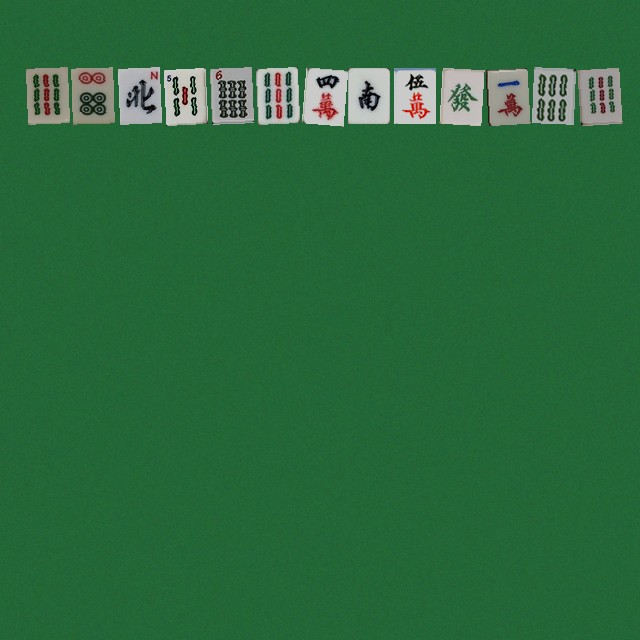tile: (25, 67, 67, 123), (71, 67, 113, 123), (117, 67, 159, 123), (163, 67, 205, 123), (209, 67, 251, 123), (255, 67, 297, 123), (301, 67, 343, 123), (347, 67, 389, 123), (393, 67, 435, 123), (439, 67, 481, 123), (485, 67, 527, 123), (531, 67, 573, 123), (577, 67, 619, 123)
